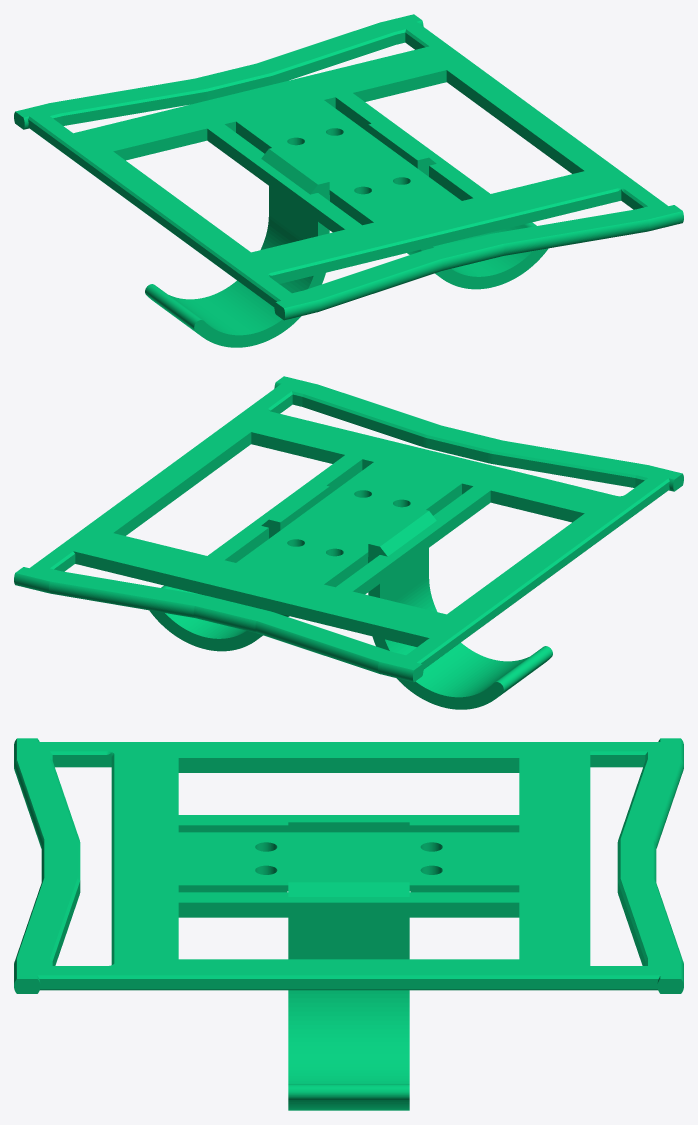
The model's file is battery.glb.
The picture shows the model from 3 angles, top to bottom: view 1: azimuth 30°, elevation 25°; view 2: azimuth 150°, elevation 25°; view 3: azimuth 270°, elevation 25°; orthographic projection. The views are drawn at different scales.
Parts seen in each view (by area): view 1: pilas_base, pilas_abrazadera; view 2: pilas_base, pilas_abrazadera; view 3: pilas_base, pilas_abrazadera.
Part boxes in pixels (x1,y1,x2,y2): pilas_base: (14, 14, 683, 320); pilas_abrazadera: (145, 121, 548, 347); pilas_base: (14, 376, 683, 682); pilas_abrazadera: (149, 483, 552, 709); pilas_base: (14, 738, 683, 993); pilas_abrazadera: (288, 815, 409, 1110).
Size of the model in its own units: 0.1031 by 0.0359 by 0.1214.
